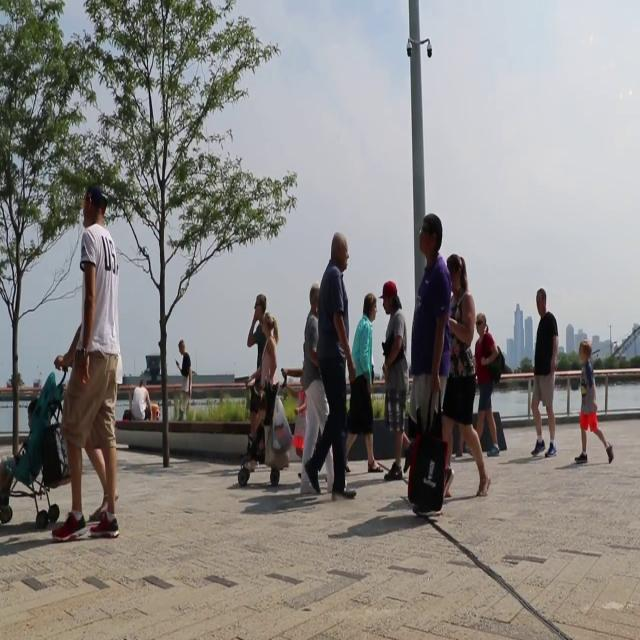normal: (57, 177, 127, 547), (304, 226, 358, 506), (373, 279, 413, 480), (246, 290, 282, 496), (573, 336, 617, 469), (528, 285, 562, 455)
